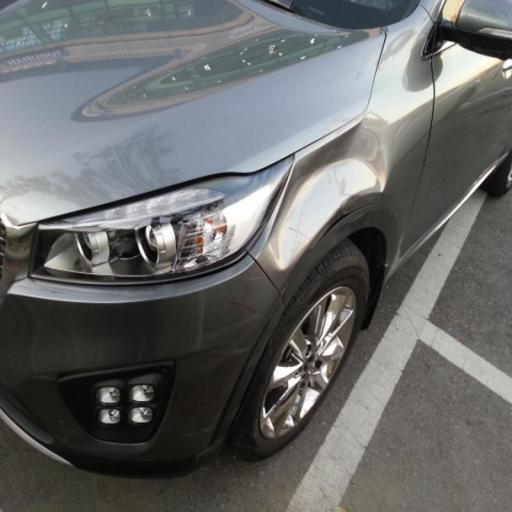dent: (270, 129, 405, 249)
